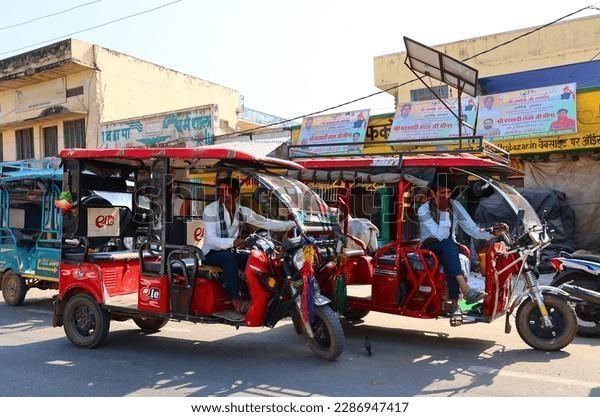keke: (60, 142, 348, 366), (284, 138, 577, 350), (25, 32, 81, 40)
